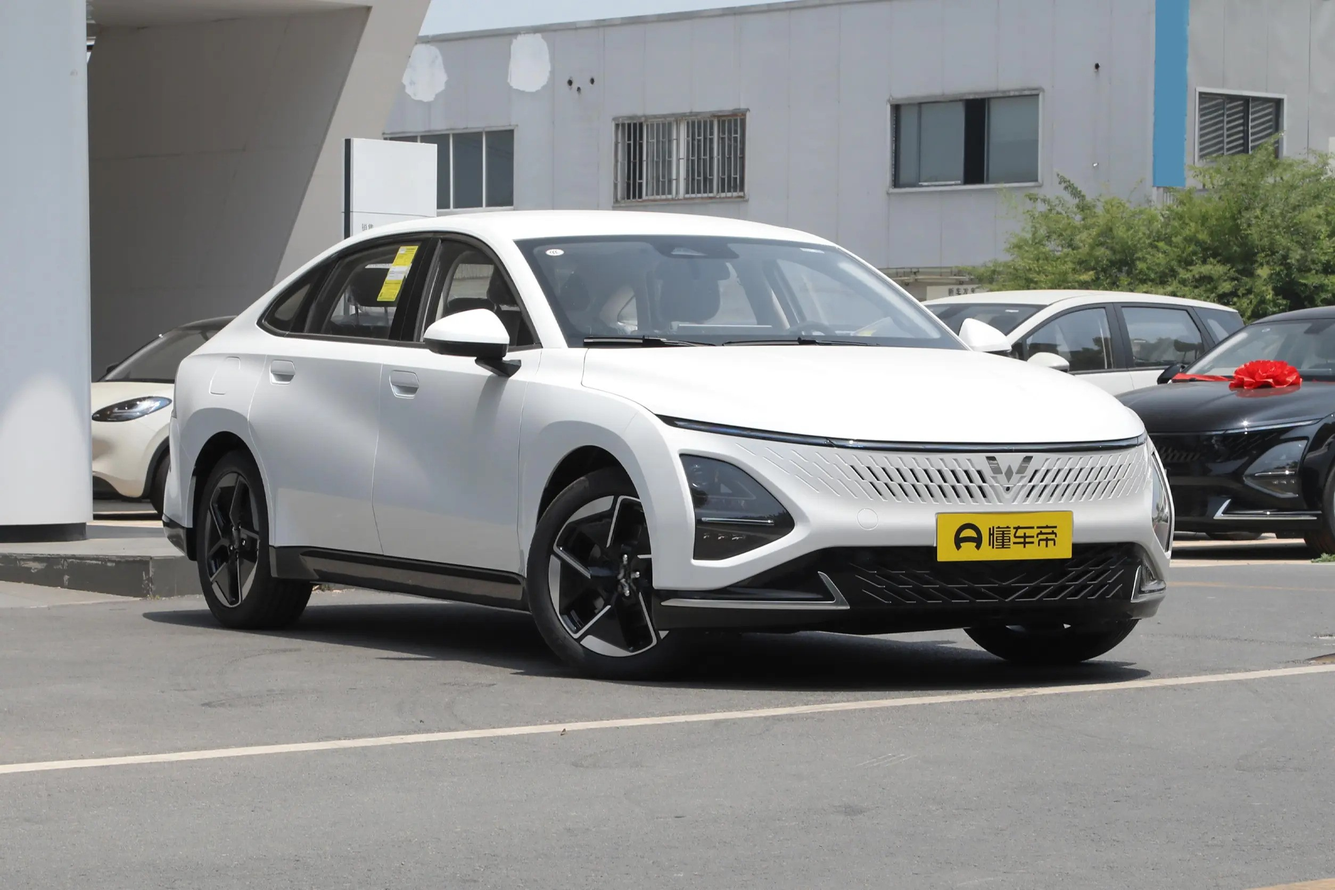SGMW: (985, 456, 1033, 482)
